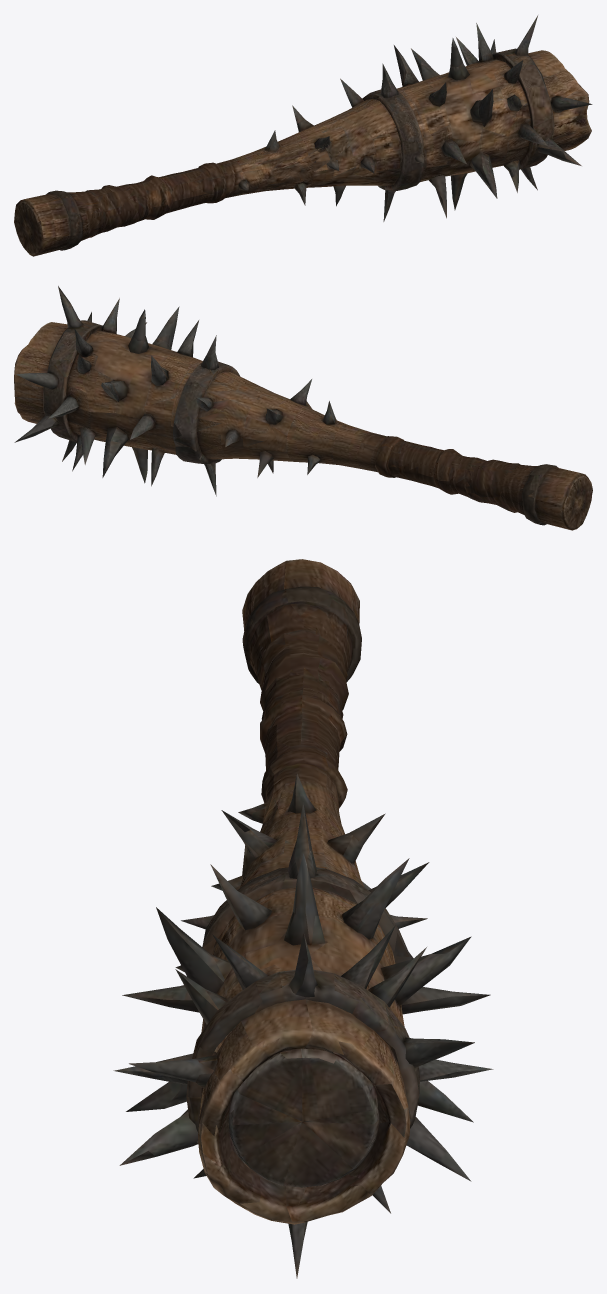
Rendered from greatclub.glb.
The picture shows the model from 3 angles, top to bottom: view 1: azimuth 30°, elevation 25°; view 2: azimuth 150°, elevation 25°; view 3: azimuth 270°, elevation 25°; orthographic projection. The views are drawn at different scales.
Visible parts, largest first — view 1: greatclub; view 2: greatclub; view 3: greatclub.
Boxes of the visible parts, x1,y1,x2,y2 form: greatclub: (14, 15, 592, 256); greatclub: (14, 286, 592, 530); greatclub: (113, 559, 493, 1278).
Size of the model in its own units: 1.5 by 0.4644 by 0.457.
1 material, 1 textured.
